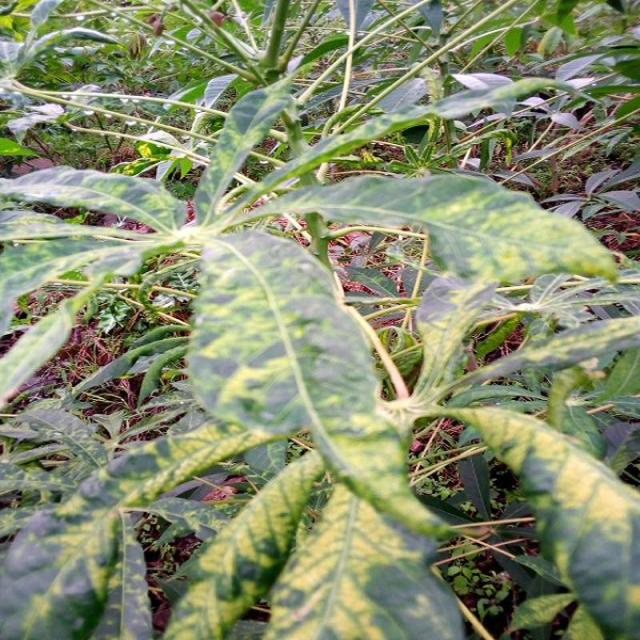cassava leaf: (0, 3, 638, 638), (438, 401, 638, 638)
